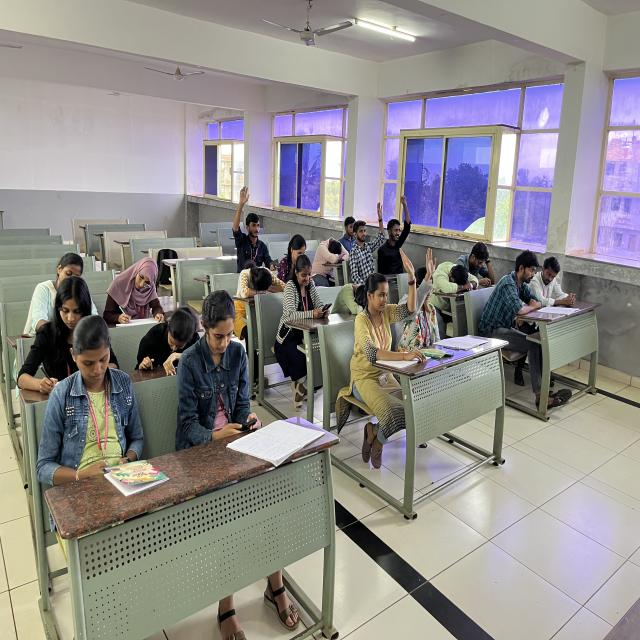Hand Rising: (352, 246, 420, 381), (411, 242, 443, 355), (230, 183, 268, 275), (352, 197, 388, 276), (386, 192, 414, 272)
Sleeping: (232, 261, 287, 331), (430, 254, 481, 320), (312, 236, 350, 284), (333, 278, 374, 322)
Using Phone: (38, 312, 150, 493), (175, 288, 265, 450), (282, 254, 336, 340)
Writing: (23, 273, 101, 395), (100, 254, 167, 328)
